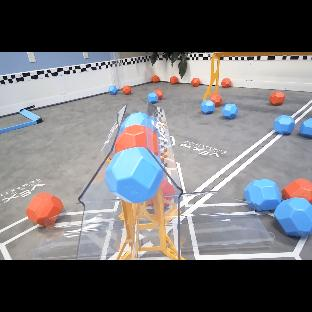V5_BLUE: (244, 179, 312, 237), (105, 140, 164, 203), (119, 112, 158, 134), (274, 115, 295, 135), (222, 103, 238, 119), (201, 100, 215, 114), (148, 92, 158, 104), (109, 86, 117, 95)
V5_RED: (26, 193, 63, 227), (115, 124, 146, 153), (281, 178, 312, 204), (269, 91, 285, 106), (148, 138, 159, 156), (162, 180, 175, 194), (209, 94, 222, 107), (154, 89, 163, 100), (123, 85, 132, 95), (191, 78, 200, 87), (170, 76, 178, 84), (152, 75, 159, 82)
blueingoal: (105, 140, 164, 203), (118, 112, 154, 135)
redingoal: (115, 124, 160, 156)
